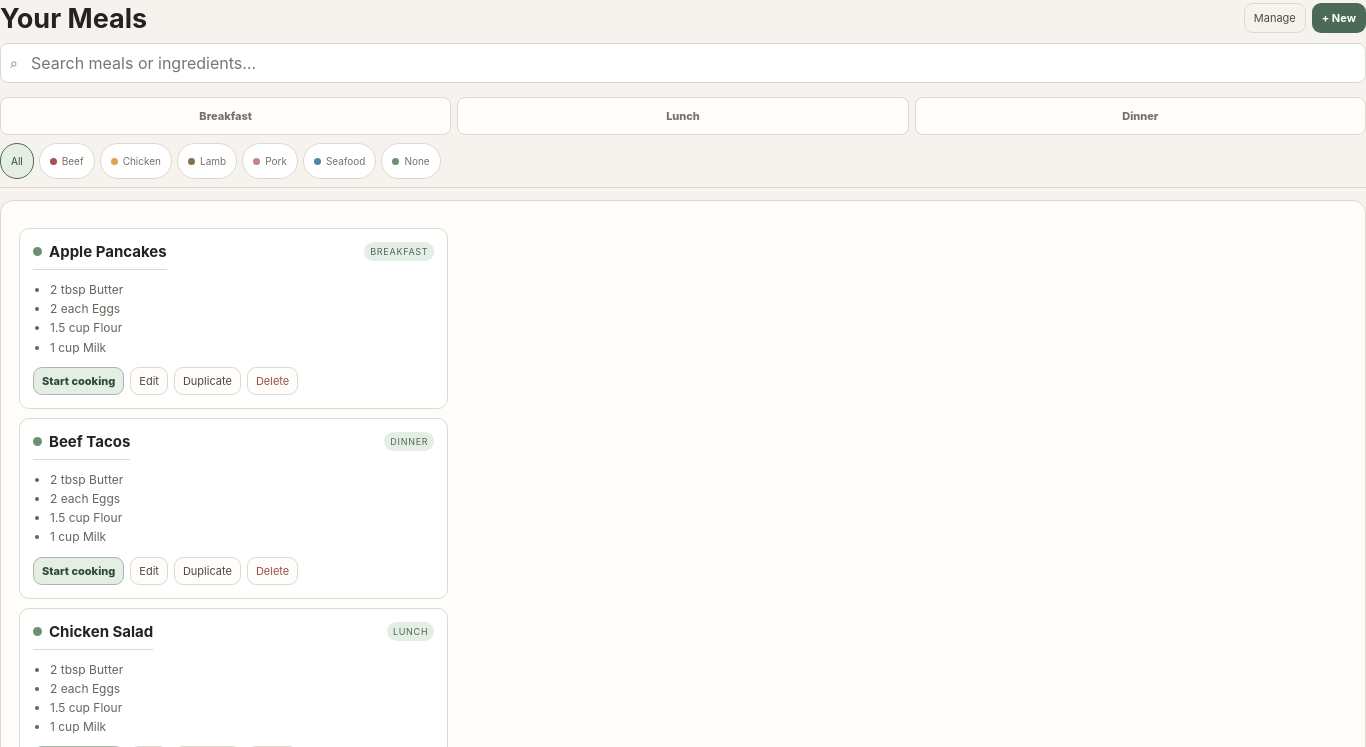
Scenario: MealsView › shows all meal types by default and lets mobile meal type filters combine
Expected: the heading "Apple Pancakes" is shown, [33,242,167,270]
Expected: the heading "Chicken Salad" is shown, [33,622,153,650]
Step 1. Click the button "Breakfast" → (226, 116), box [0,97,451,135]
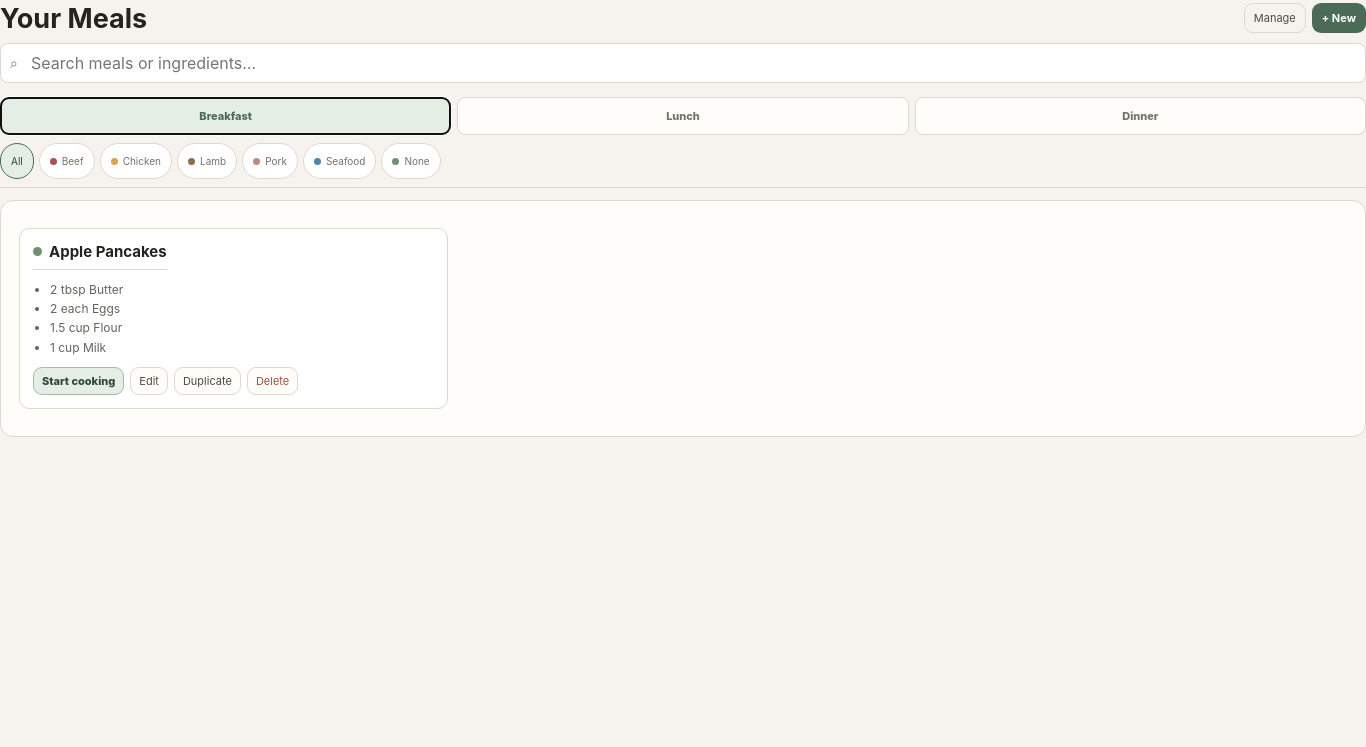
Step 2. Click the button "Lunch" → (683, 116), box [457,97,909,135]
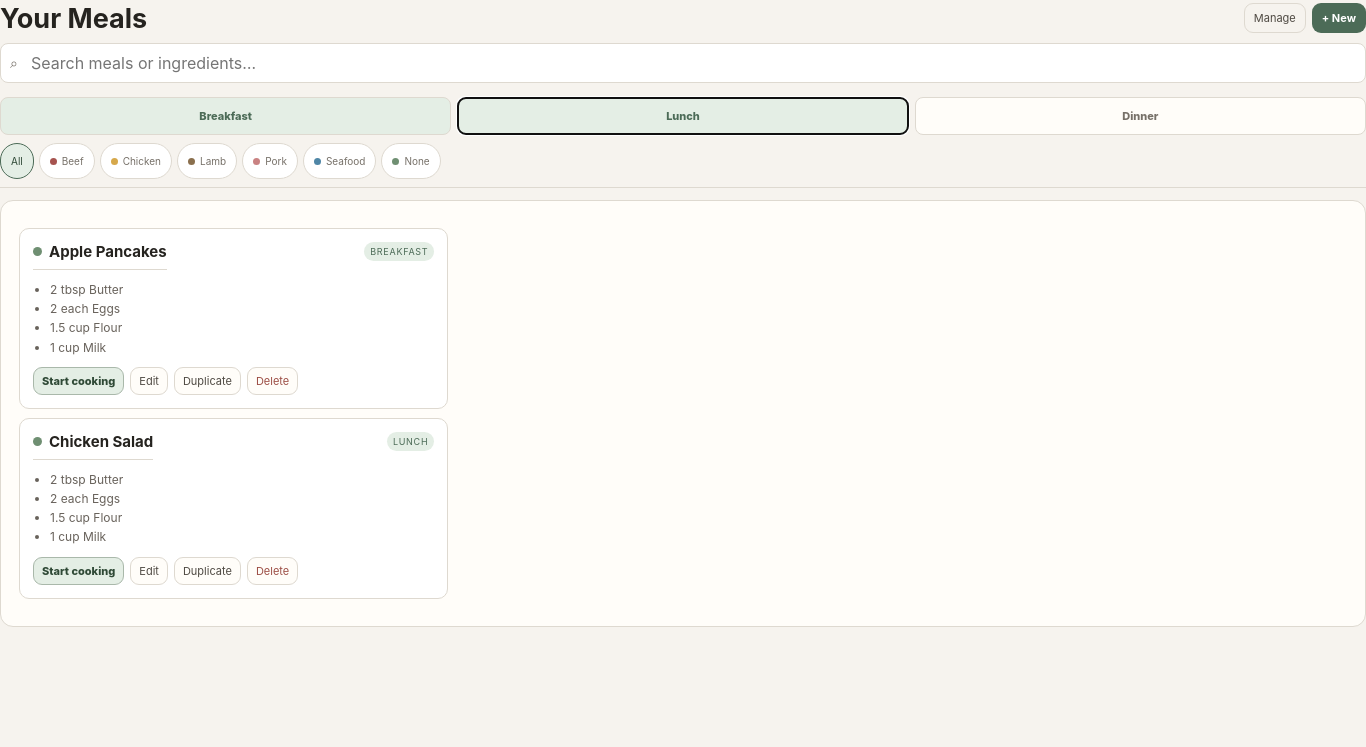
Expected: the heading "Apple Pancakes" is shown, [33,242,167,270]
Expected: the heading "Chicken Salad" is shown, [33,432,153,460]
